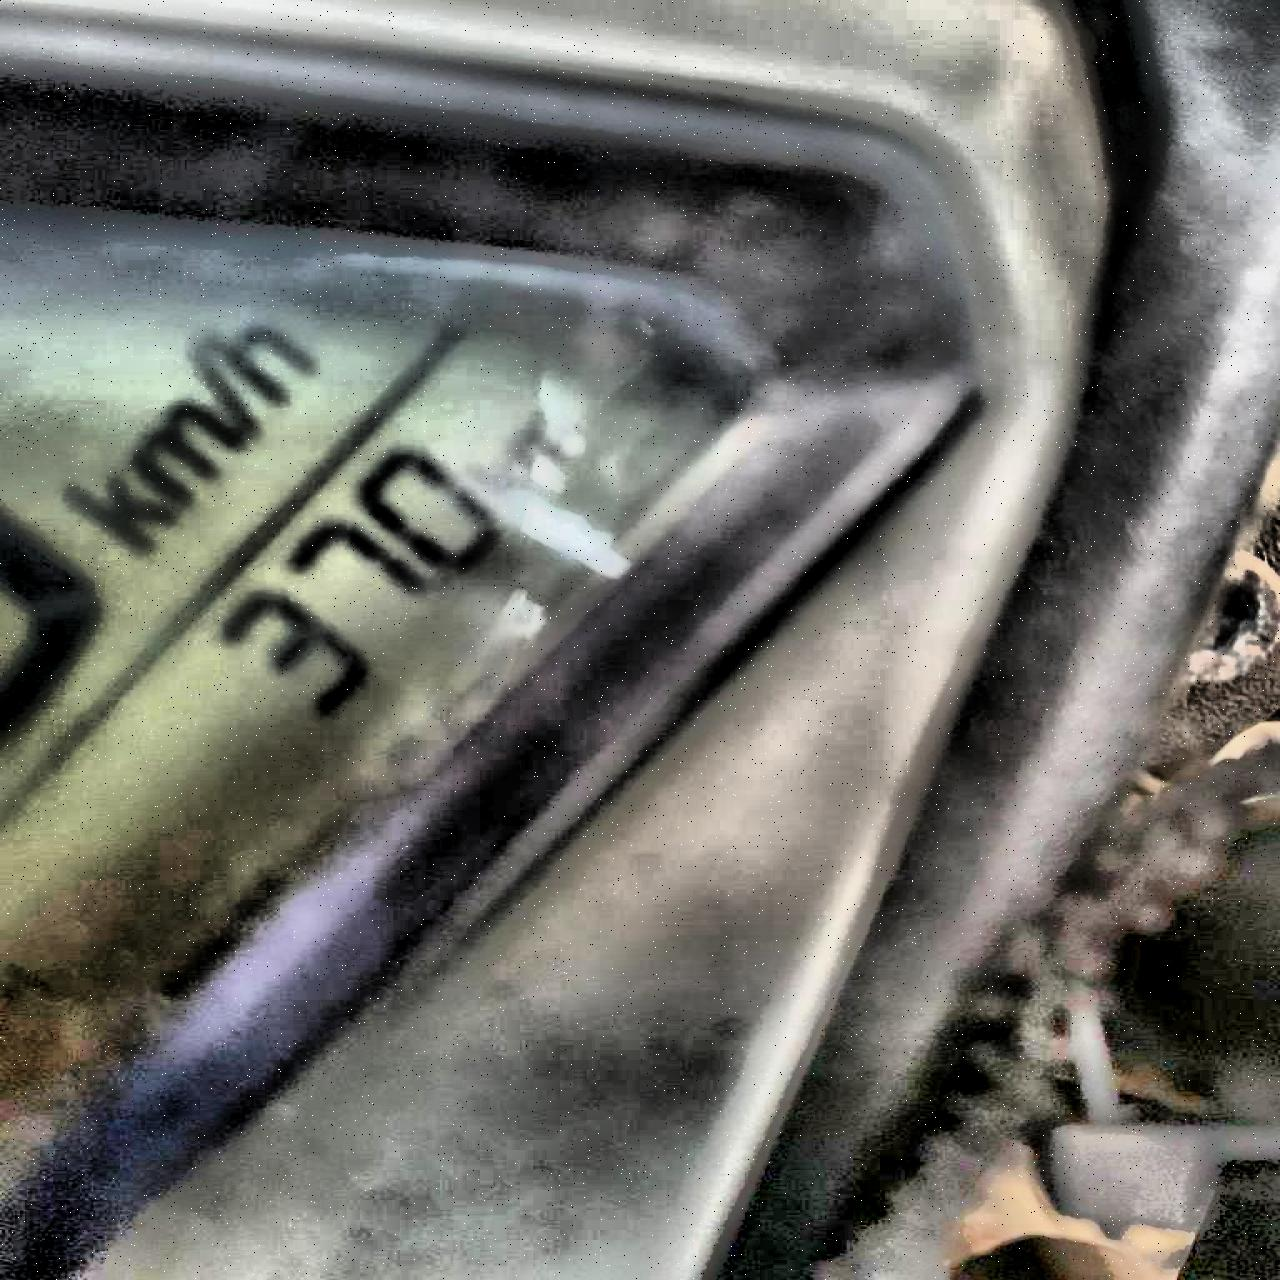0: (352, 445, 498, 574)
3: (215, 587, 365, 713)
7: (280, 516, 427, 602)
X: (129, 410, 238, 501), (195, 319, 309, 403), (59, 477, 169, 551), (182, 353, 260, 430)
odometer: (0, 170, 815, 1205)
